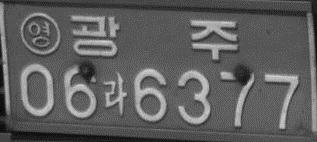0: (19, 63, 55, 117)
3: (176, 69, 210, 125)
6: (132, 67, 168, 123), (62, 65, 98, 118)
7: (218, 70, 255, 128), (263, 73, 298, 130)
광주_D: (69, 15, 239, 61)
라: (101, 72, 128, 117)
영: (20, 11, 61, 55)
